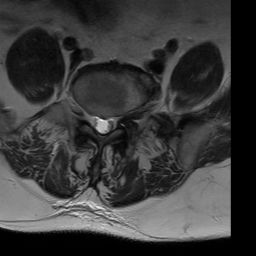CCS_stenosis: (99, 109, 106, 141)
LFS_stenosis: (117, 107, 126, 130)
LLS_normal: (106, 109, 116, 137)
RFS_normal: (83, 104, 91, 133)
RLS_normal: (91, 109, 99, 134)
